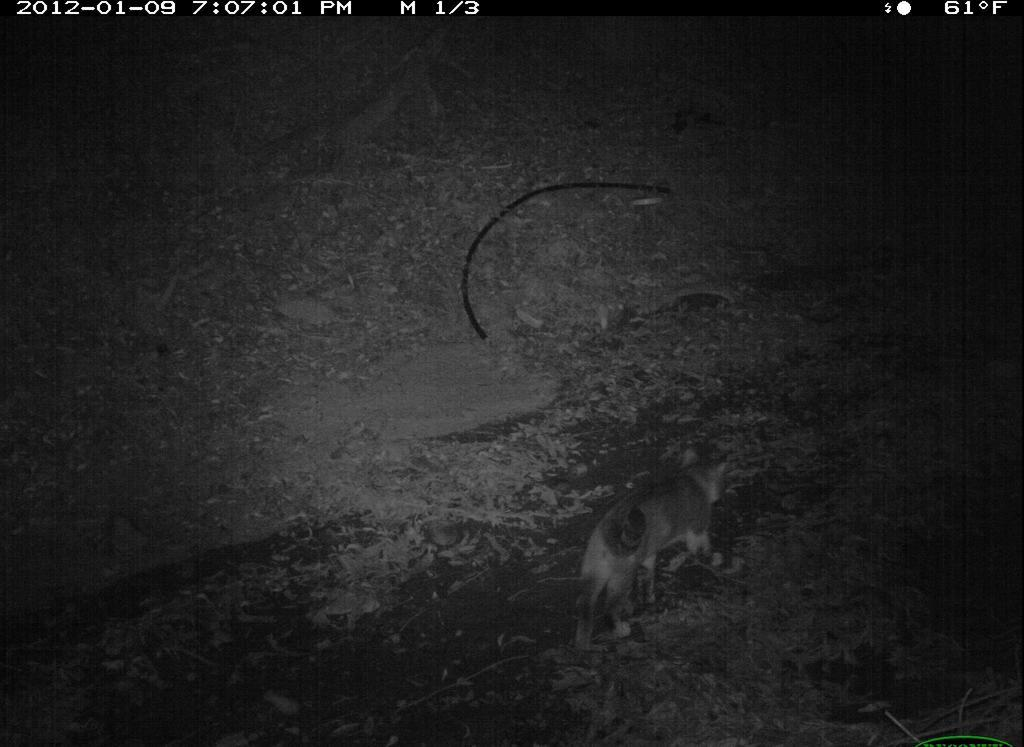cat: (560, 424, 743, 661)
